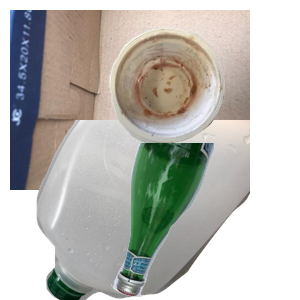cardboard: (10, 10, 250, 190)
glass: (109, 143, 300, 300)
plastic: (34, 120, 274, 300)
trash: (107, 25, 300, 162)
